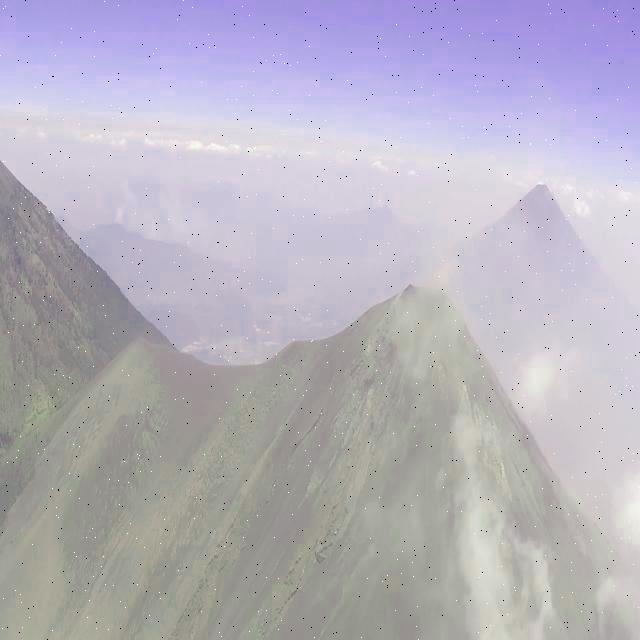Summit: (294, 264, 538, 462)
